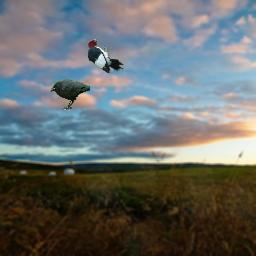Crow: (50, 79, 90, 110)
Woodpecker: (88, 37, 124, 73)
